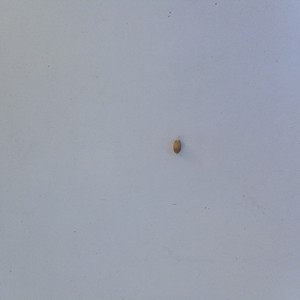trigo: (170, 135, 184, 156)
